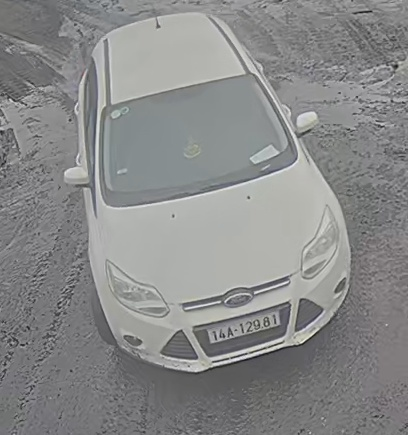vehicle plate: (207, 306, 282, 349)
